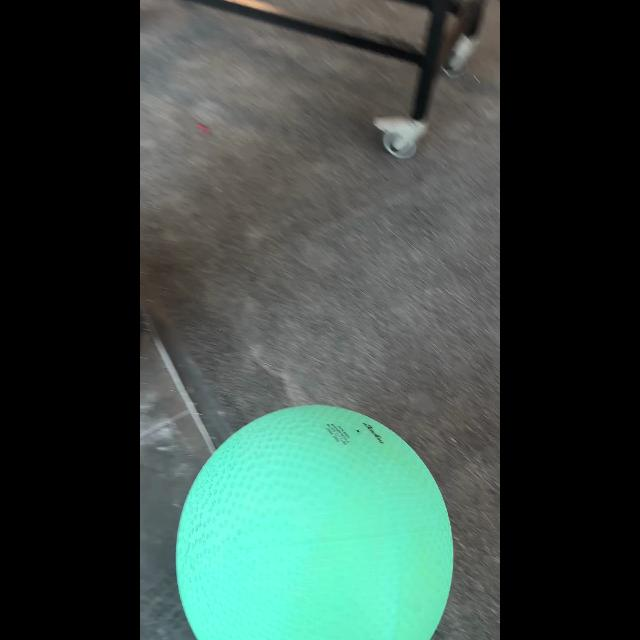ALGAE: (174, 404, 454, 638)
